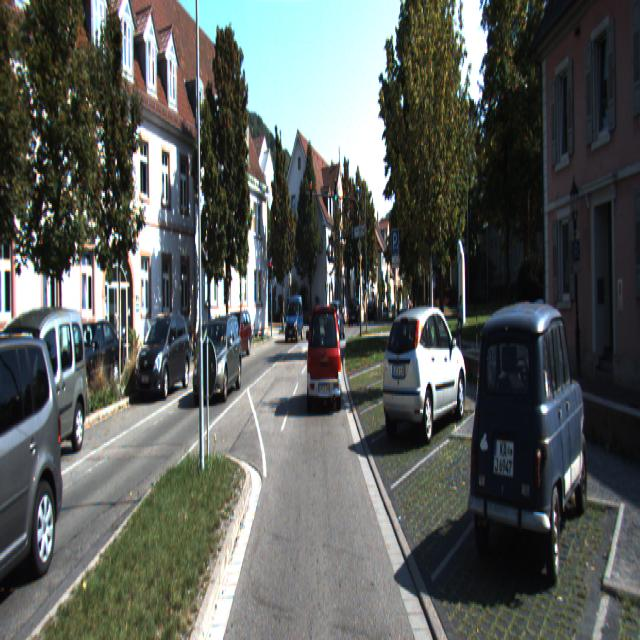Car: (461, 296, 593, 602), (0, 318, 72, 607), (0, 302, 90, 490), (381, 303, 467, 439), (54, 316, 127, 404), (134, 312, 192, 400), (192, 314, 244, 403), (307, 305, 341, 414), (220, 312, 253, 362), (284, 296, 304, 344), (349, 297, 362, 326)
